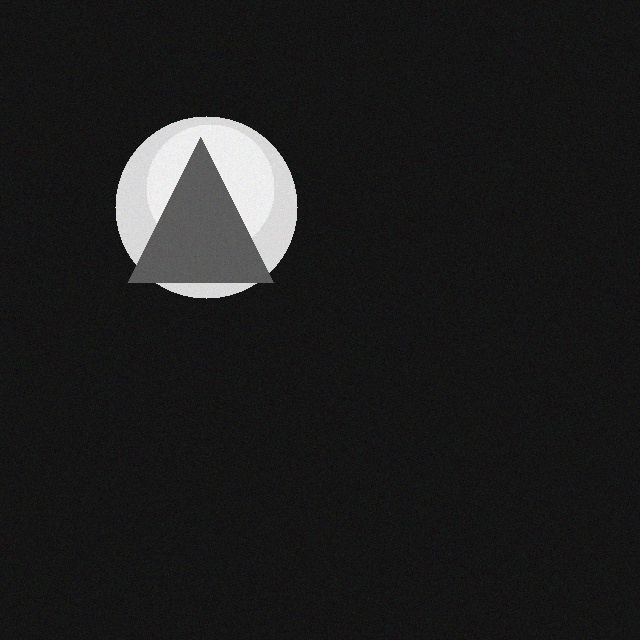circle: (109, 103, 291, 285), (140, 111, 268, 239)
triangle: (122, 124, 267, 269)
